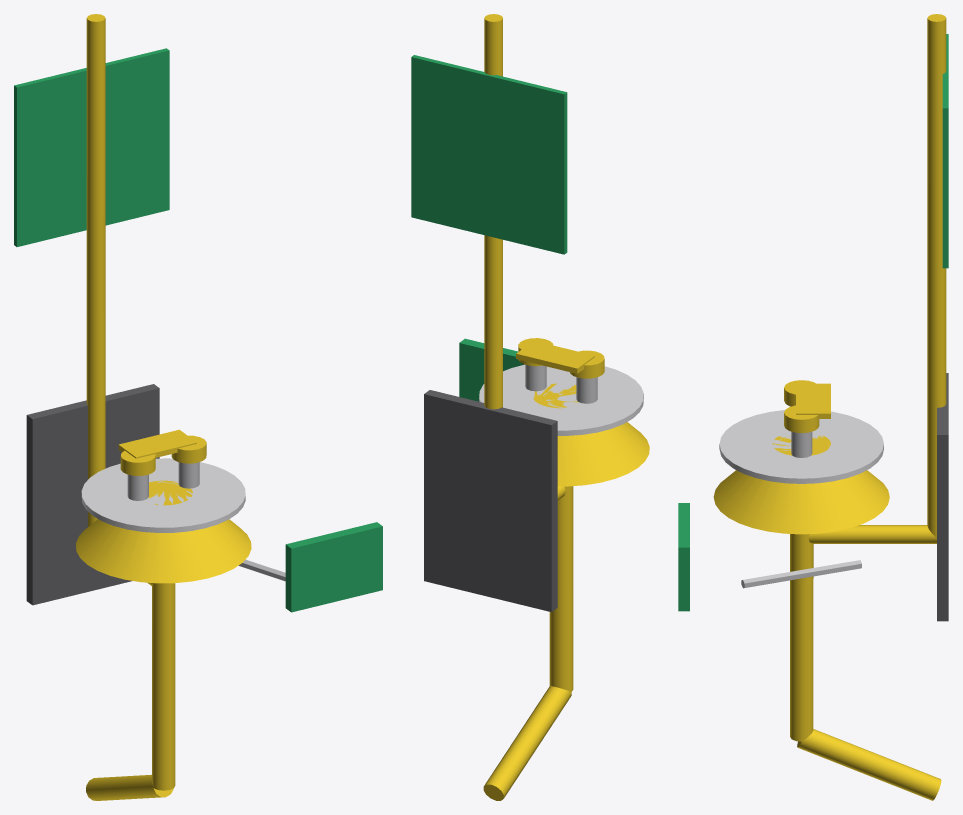
File: SM_EyewashStation.fbx
3 renders of one model, left to right at view 1: azimuth 30°, elevation 25°; view 2: azimuth 150°, elevation 25°; view 3: azimuth 270°, elevation 25°, orthographic.
Visible parts, largest first — view 1: EW_Body, EW_PushFlag, EW_Caps; view 2: EW_Body, EW_Caps, EW_PushFlag; view 3: EW_Body, EW_PushFlag, EW_Caps.
Boxes of the visible parts, x1,y1,x2,y2 form: EW_Body: [14, 14, 251, 800]; EW_PushFlag: [238, 522, 382, 612]; EW_Caps: [118, 429, 206, 475]; EW_Body: [411, 14, 649, 800]; EW_Caps: [516, 338, 604, 378]; EW_PushFlag: [459, 338, 524, 401]; EW_Body: [713, 14, 948, 800]; EW_PushFlag: [678, 503, 861, 611]; EW_Caps: [784, 380, 830, 433].
Size of the model in its own units: 46 by 147 by 46.
